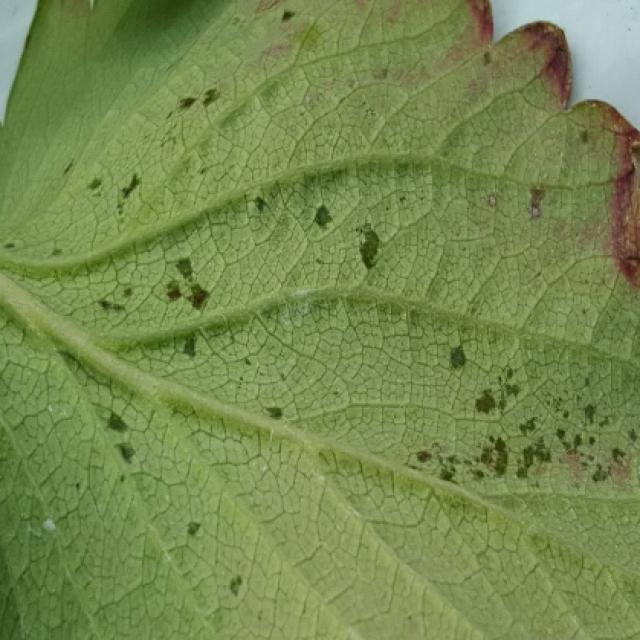Angular Leafspot: (2, 0, 640, 627)
